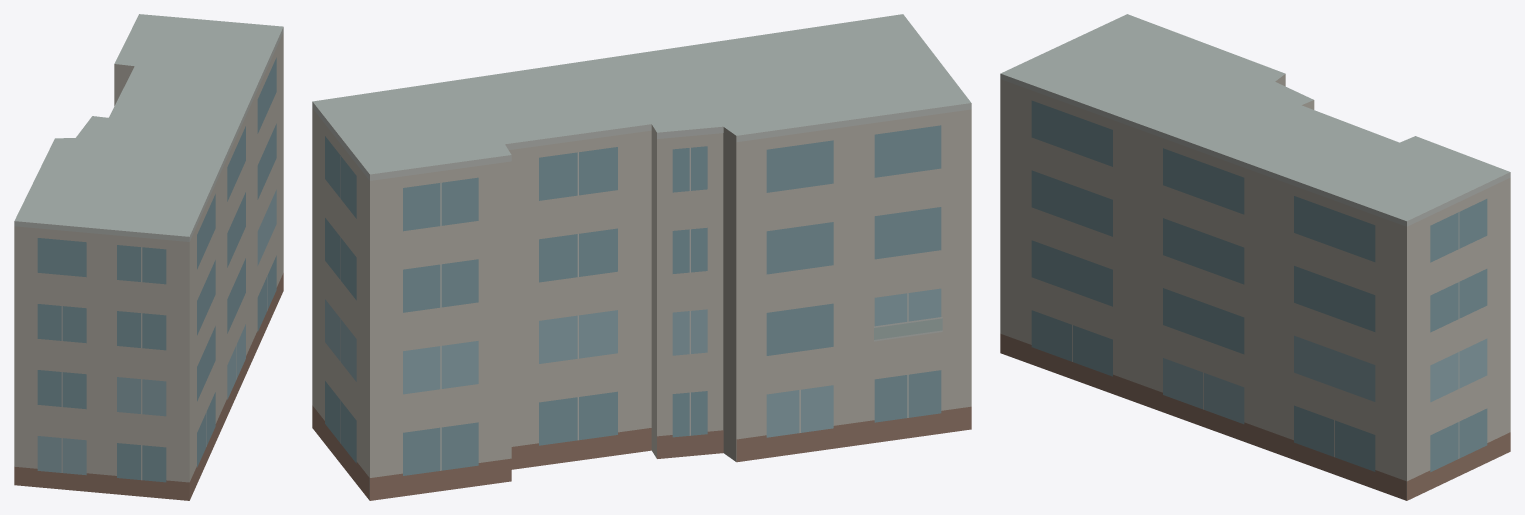
The model's file is survey-upis-32647783.glb.
3 renders of one model, left to right at view 1: azimuth 30°, elevation 25°; view 2: azimuth 150°, elevation 25°; view 3: azimuth 270°, elevation 25°, orthographic. The views are drawn at different scales.
Visible parts, largest first — view 1: survey-upis-32647783.tmp; view 2: survey-upis-32647783.tmp; view 3: survey-upis-32647783.tmp.
Boxes of the visible parts, x1,y1,x2,y2 form: survey-upis-32647783.tmp: [14, 14, 283, 500]; survey-upis-32647783.tmp: [312, 14, 971, 500]; survey-upis-32647783.tmp: [1000, 14, 1510, 500].
Bounding box in the file's own units: 19.73 × 12.4 × 20.51.
